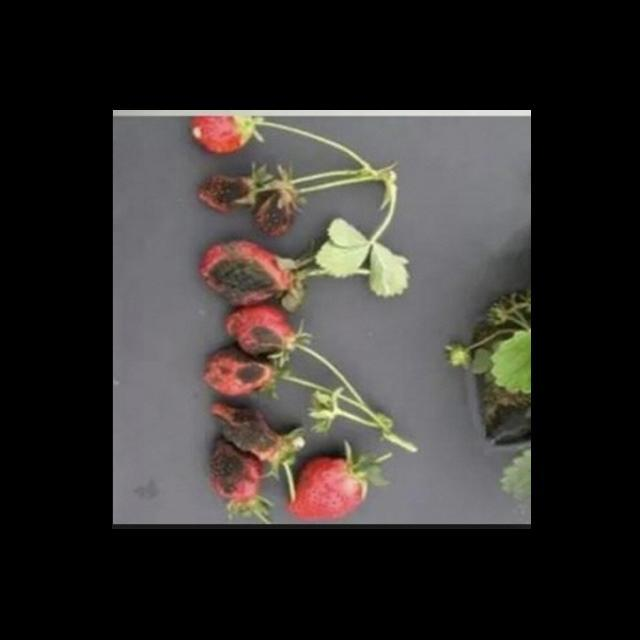Anthracnose Fruit Rot: (204, 239, 282, 303), (211, 405, 277, 460), (203, 350, 268, 398), (208, 438, 258, 497), (249, 190, 297, 239), (196, 173, 251, 214), (239, 323, 281, 354)
